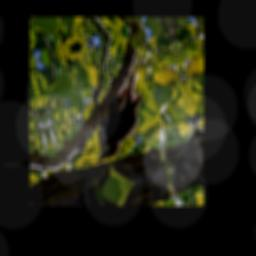Cuckoo: (75, 58, 158, 165)
